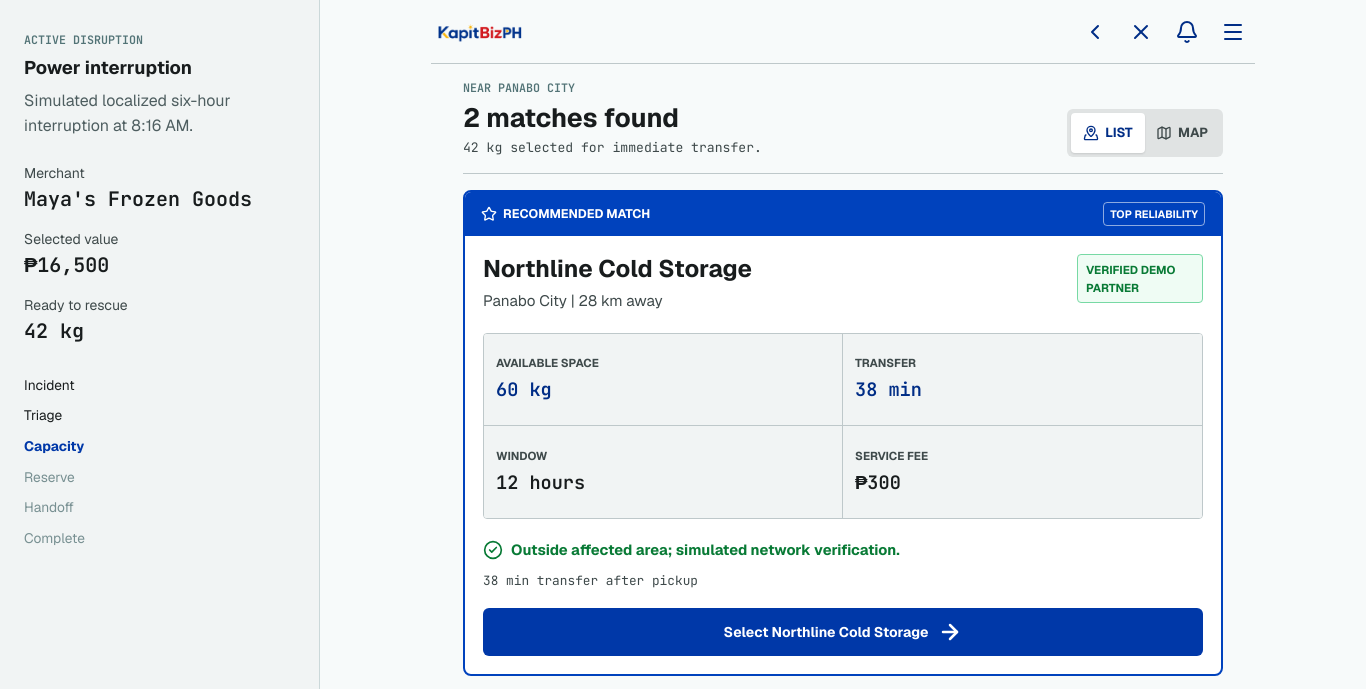
Test: KapitBiz complete demo navigation › routes notifications from an active rescue to Business activity
Expected: the heading "2 matches found" is shown, [463, 100, 679, 134]
Click the button named "Notifications": {"x": 1187, "y": 32} [1165, 10, 1209, 54]
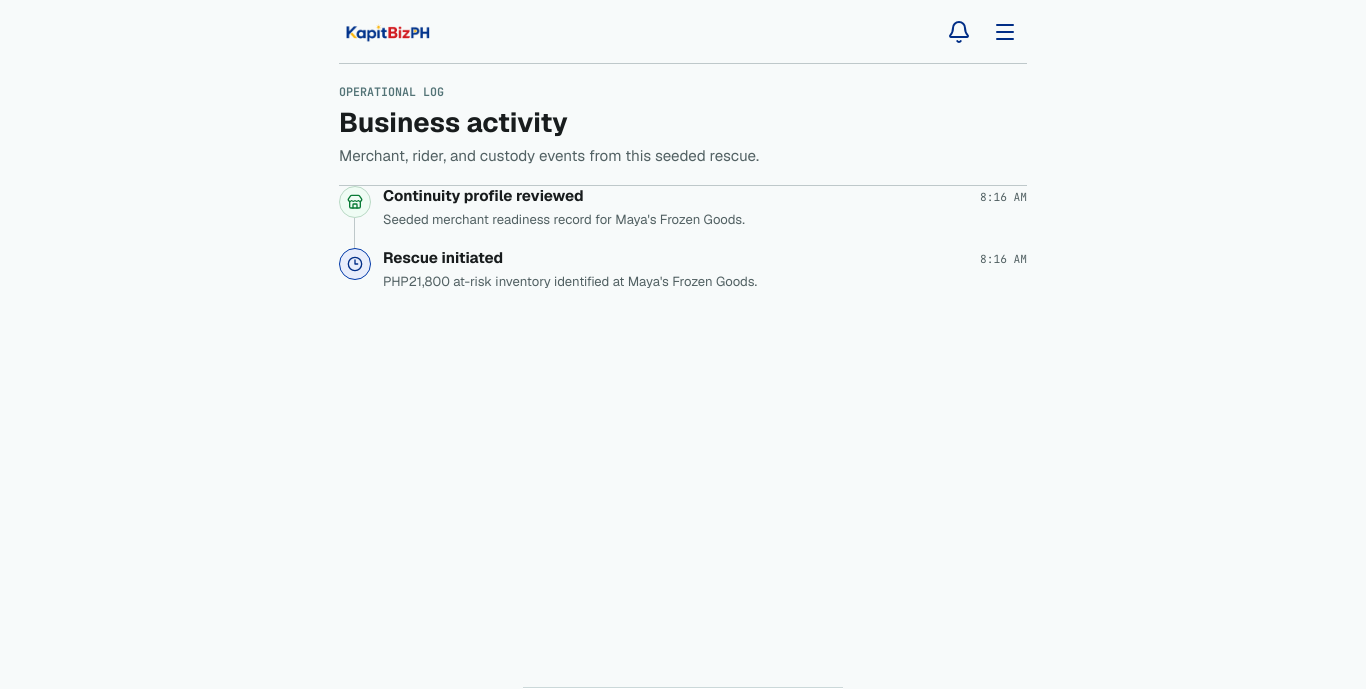
Result: the heading "Business activity" is shown at [339, 104, 568, 140]
